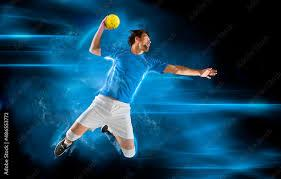ballon_handball: (104, 14, 120, 30)
